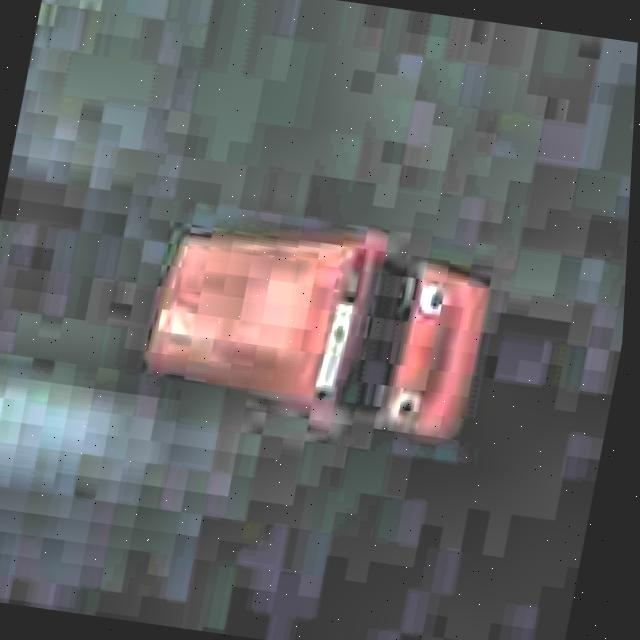bus: (112, 188, 521, 460)
